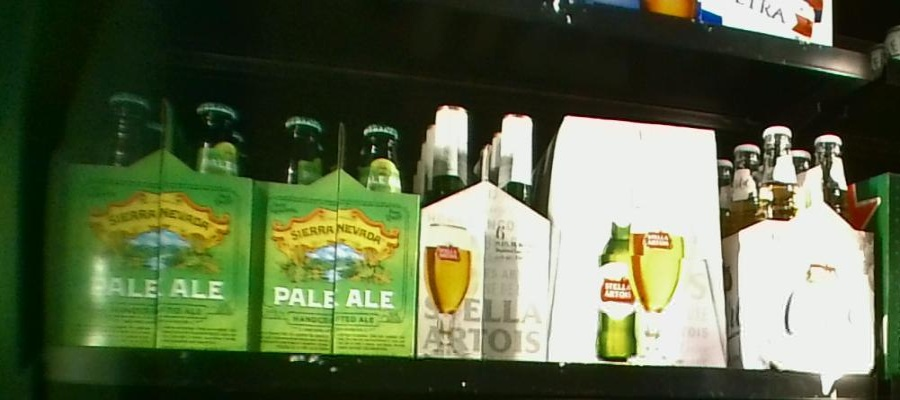bottle: (59, 83, 251, 357), (551, 106, 719, 369), (254, 107, 414, 360), (723, 125, 874, 372), (418, 102, 546, 362)
